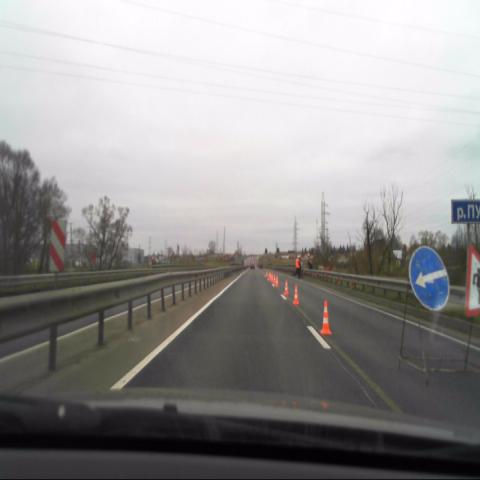4_1_2_2: (408, 244, 453, 313)
